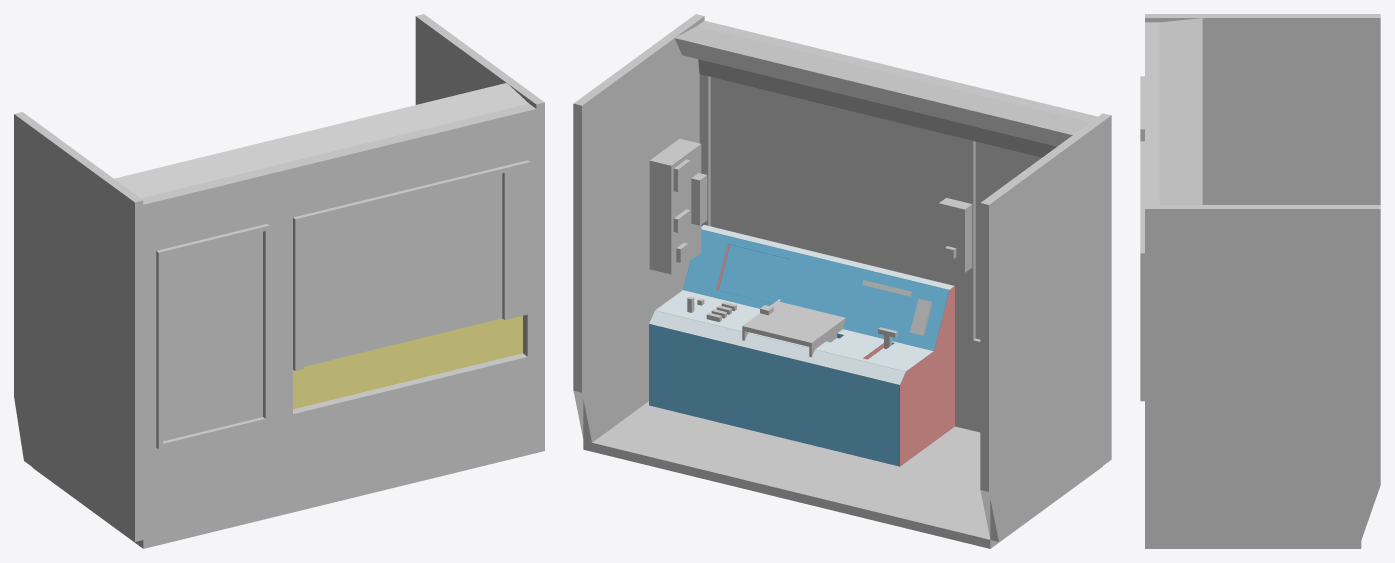
File: train-front.fbx
3 renders of one model, left to right at view 1: azimuth 30°, elevation 25°; view 2: azimuth 150°, elevation 25°; view 3: azimuth 270°, elevation 25°, orthographic. The views are drawn at different scales.
Parts seen in each view (by area): view 1: cuboid_5, cuboid_8, cube_9, cuboid_6, cube_10, desk, cuboid_7, cube_11, cube_8, cube_12, cube_13, cube_16 (+3 smaller); view 2: desk, cuboid_8, cuboid_7, cube_9, cube_8, cuboid_5, cuboid_6, cube_18, cube_11, cuboid_3, cube_23, cube_10 (+2 smaller); view 3: cuboid_7, cuboid_8, cuboid_5, cuboid_6, cube_8, cube_11, cube_13.
Boxes of the visible parts, x1,y1,x2,y2 form: cuboid_5: (251, 83, 536, 506); cuboid_8: (14, 112, 143, 541); cube_9: (304, 173, 502, 366); cuboid_6: (114, 145, 279, 539); cube_10: (163, 232, 262, 441); desk: (293, 316, 522, 409); cuboid_7: (415, 14, 544, 443); cube_11: (502, 160, 530, 319); cube_8: (32, 442, 544, 548); cube_12: (293, 216, 303, 371); cube_13: (297, 166, 504, 222); cube_16: (156, 255, 162, 444); desk: (649, 225, 954, 466); cuboid_8: (980, 113, 1111, 541); cuboid_7: (573, 14, 704, 442); cube_9: (736, 85, 940, 282); cube_8: (583, 401, 1102, 548); cuboid_5: (674, 20, 963, 427); cuboid_6: (934, 84, 1097, 432); cube_18: (649, 138, 701, 274); cube_11: (710, 77, 736, 232); cuboid_3: (742, 299, 845, 347); cube_23: (939, 198, 972, 272); cube_10: (979, 144, 1039, 334); cuboid_7: (1145, 205, 1380, 540); cuboid_8: (1145, 14, 1380, 204); cuboid_5: (1145, 83, 1202, 204); cuboid_6: (1145, 18, 1202, 87); cube_8: (1145, 540, 1361, 548); cube_11: (1140, 241, 1144, 401); cube_13: (1140, 145, 1144, 240).
Bounding box in the file's own units: 600 × 488 × 312.
1 material, 1 textured.
